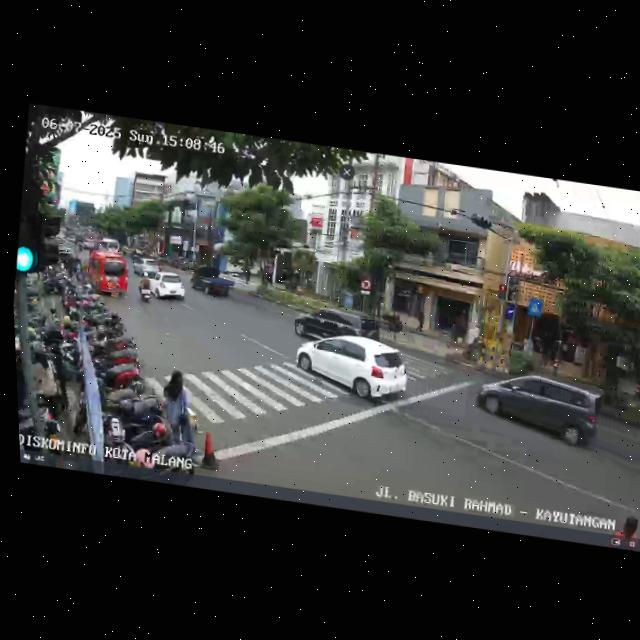car: (476, 366, 610, 455), (288, 324, 416, 412), (290, 302, 383, 352), (81, 248, 131, 300), (137, 267, 188, 306), (188, 264, 238, 299), (130, 256, 161, 276)
motorcycle: (136, 272, 157, 308)
person: (154, 367, 201, 447)
